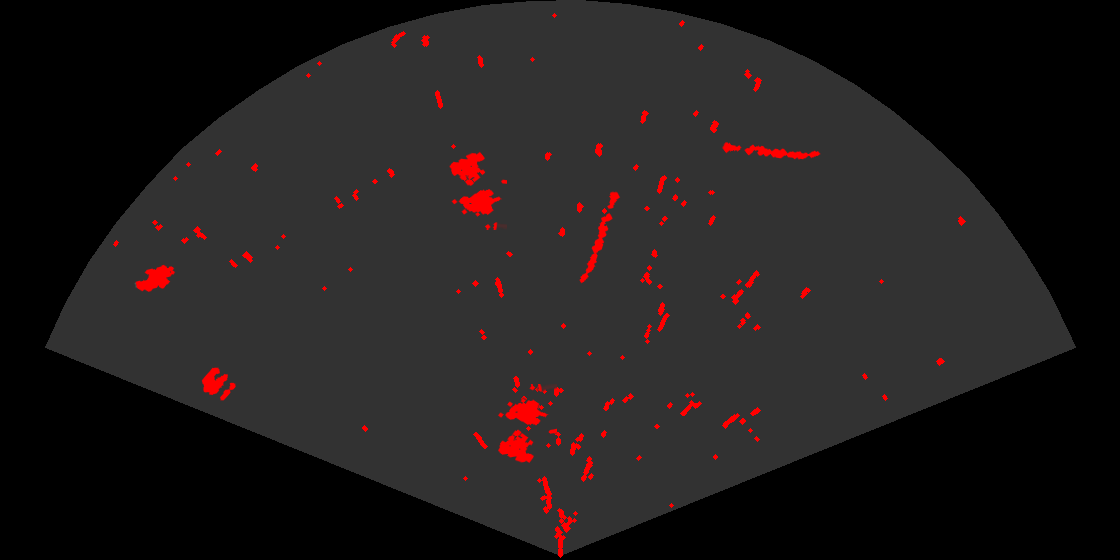AUV: (134, 263, 177, 293)
ball: (200, 366, 237, 402)
cage: (497, 384, 557, 464), (448, 150, 507, 230)
chain: (578, 190, 621, 285), (720, 141, 821, 161)
